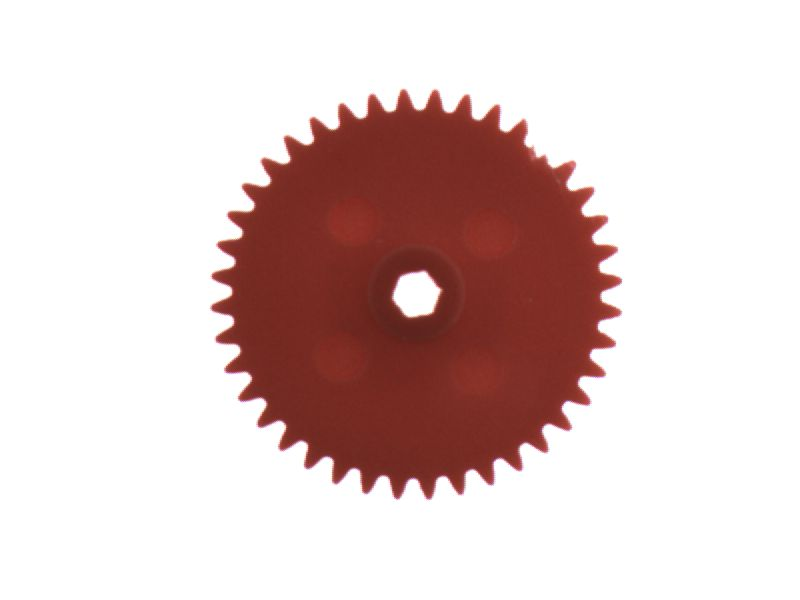defect_lack: (513, 123, 586, 171)
